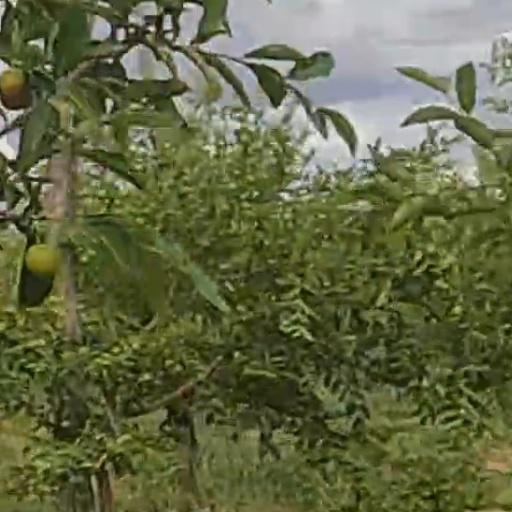acerola: (2, 69, 30, 107), (28, 246, 61, 277)
